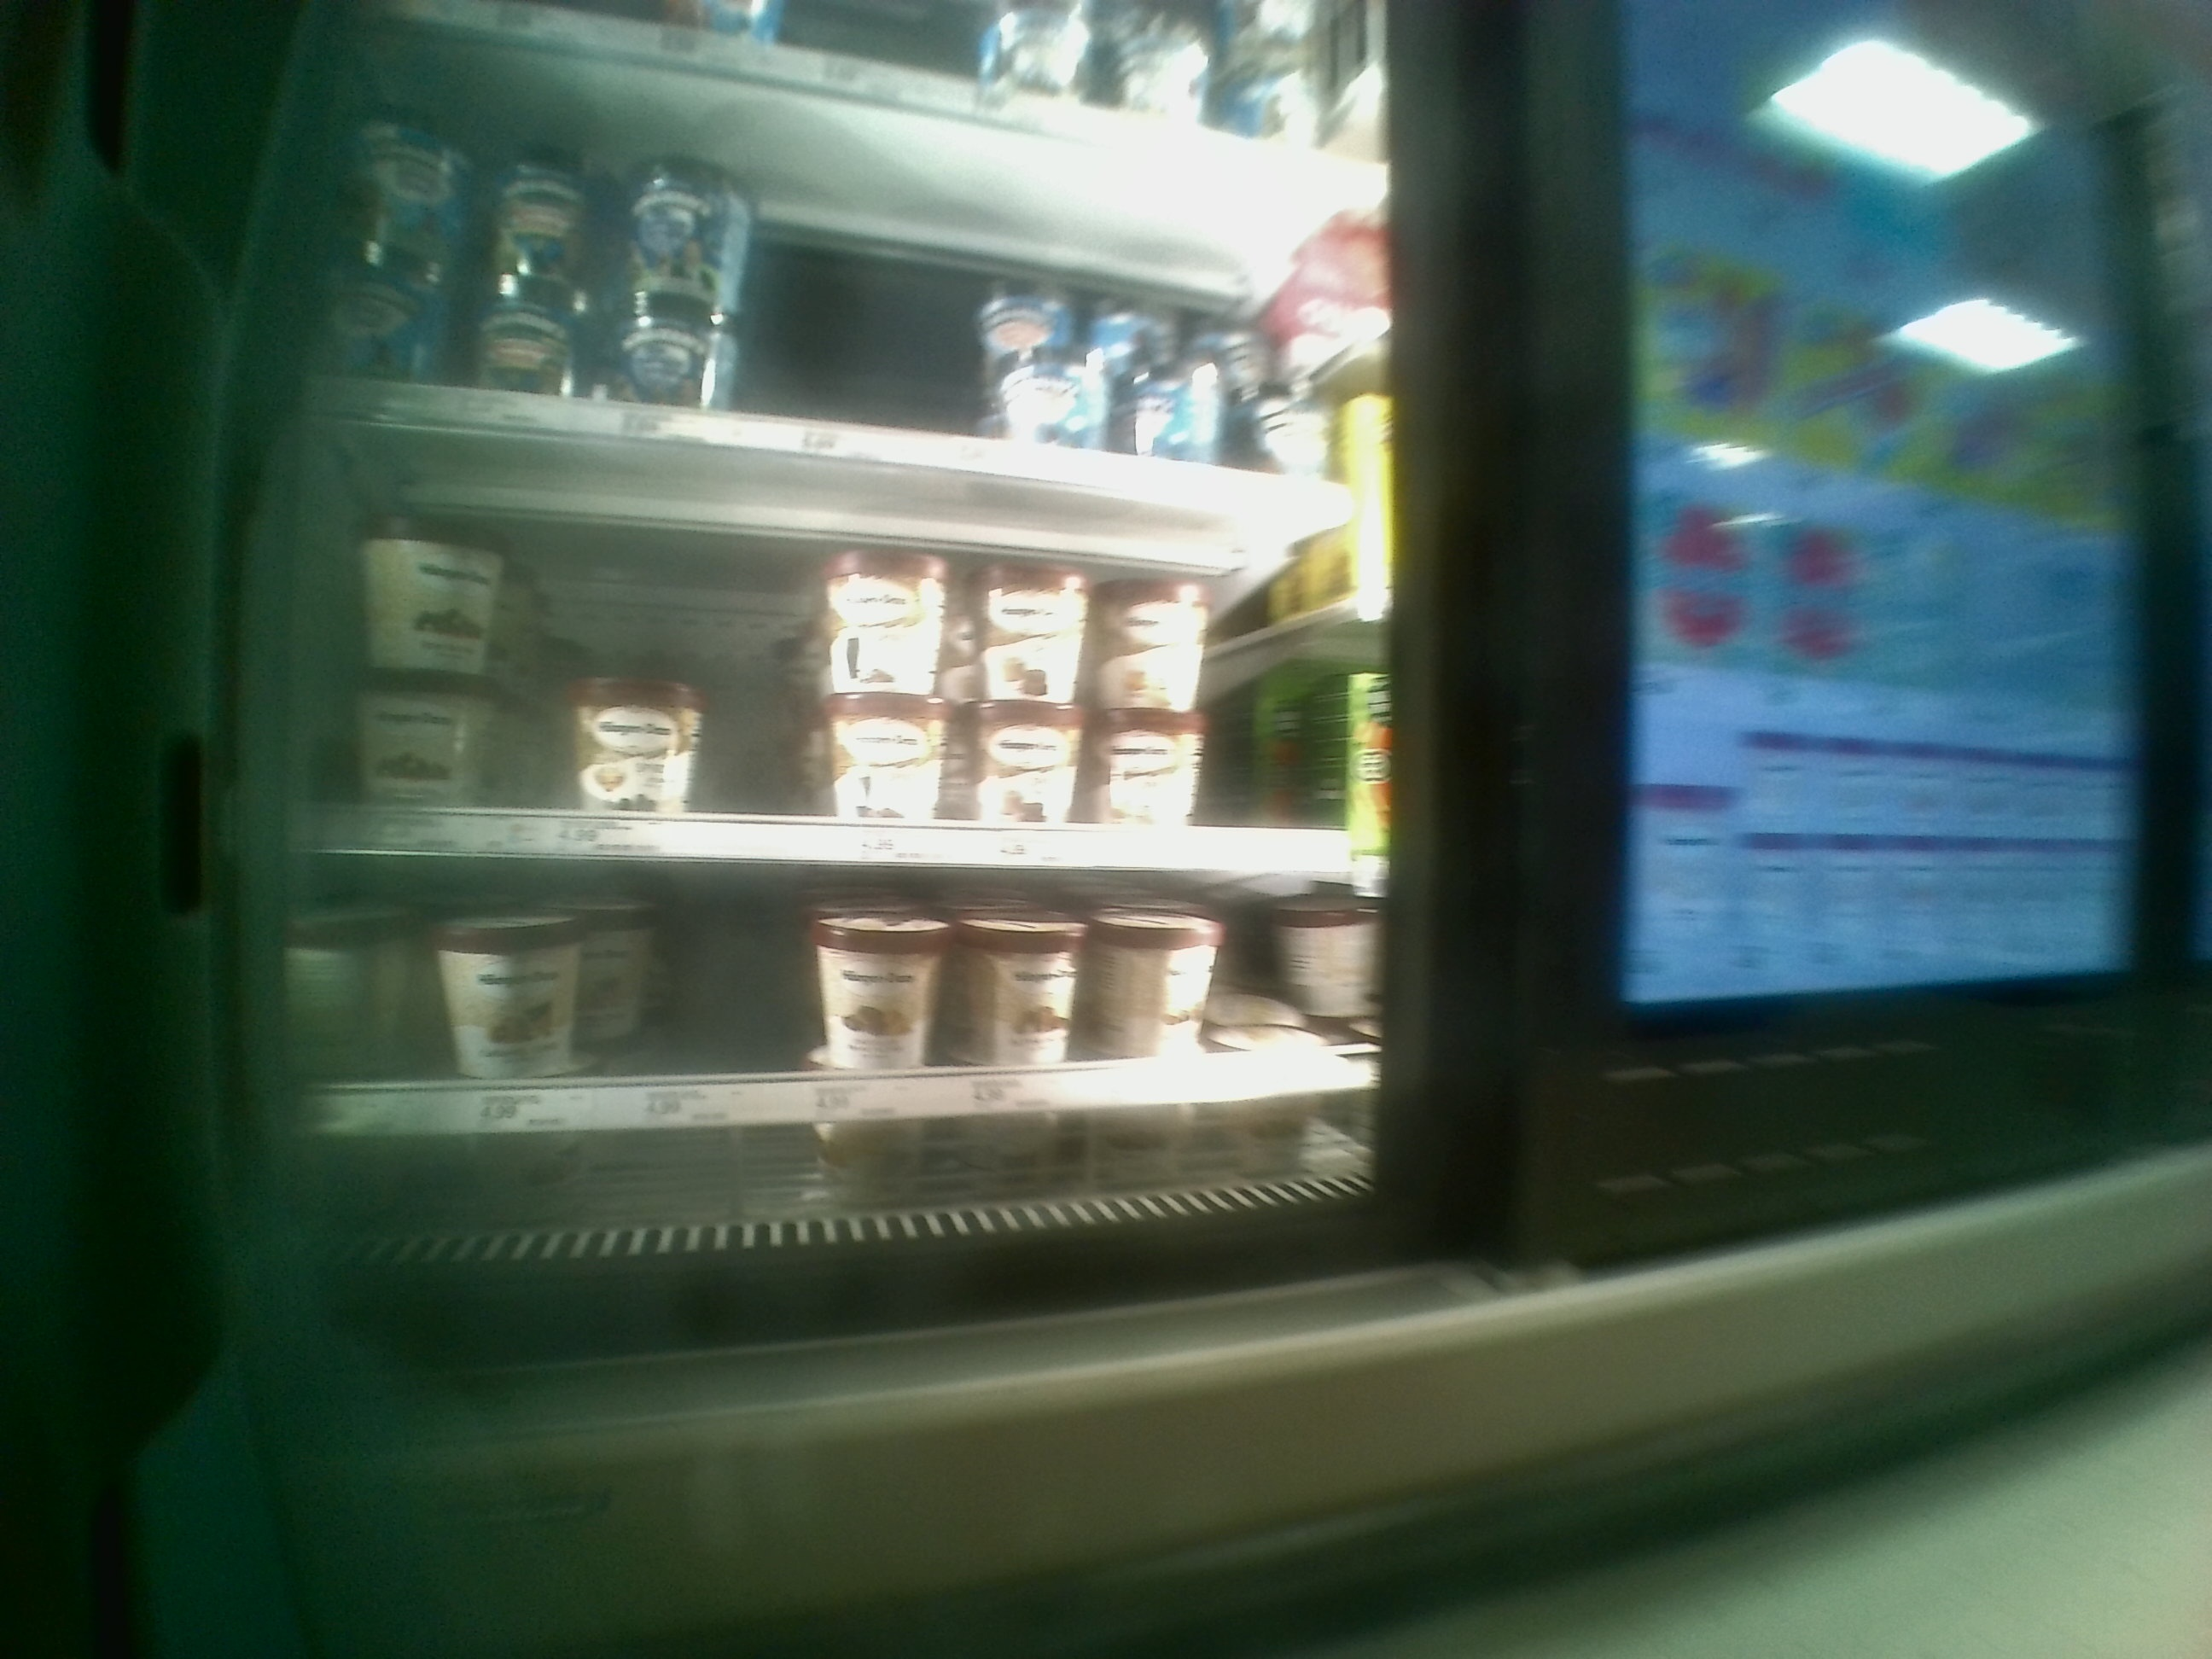shelf: (279, 415, 1388, 857), (284, 863, 1372, 1195)
